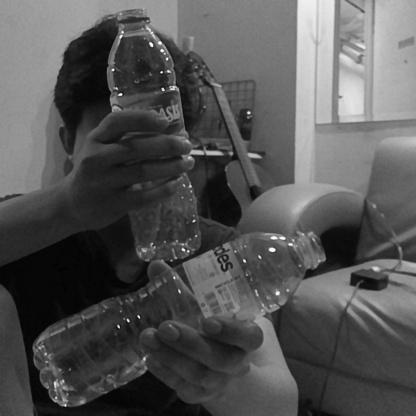plastic_bottles: (27, 228, 328, 408), (105, 7, 205, 264)
